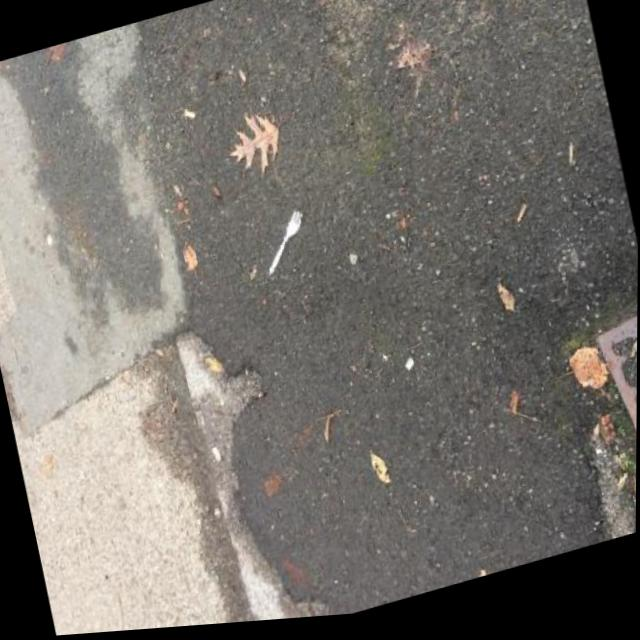plastic: (257, 202, 318, 277)
